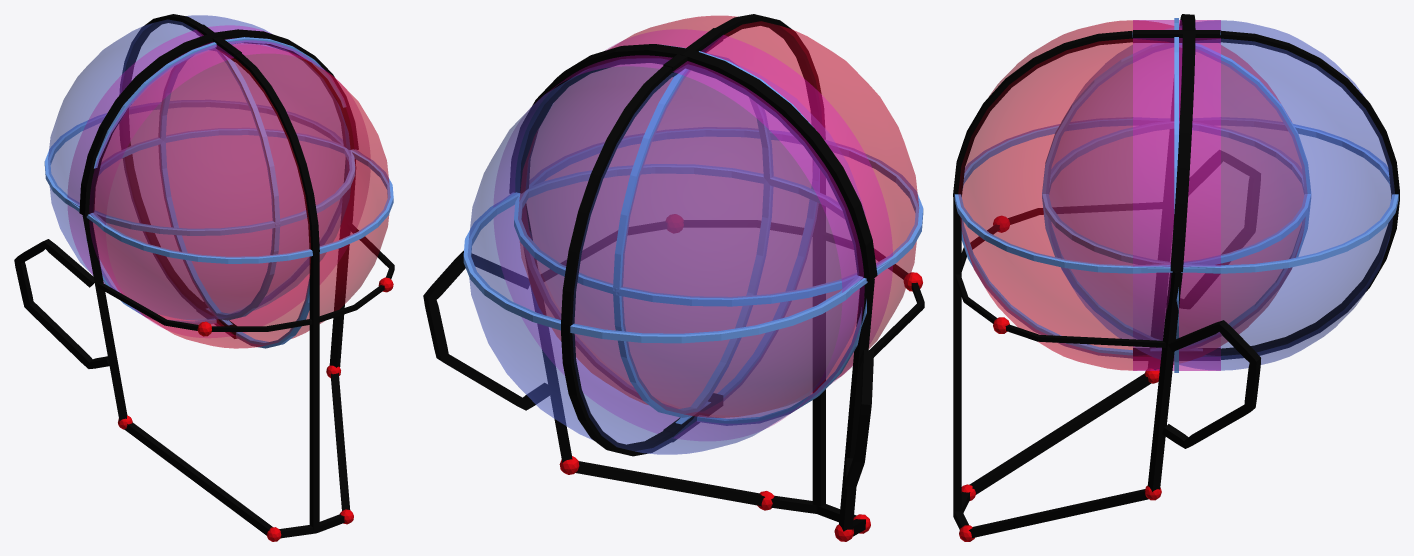
Rendered from 头部-基础头.glb.
The picture shows the model from 3 angles, left to right: view 1: azimuth 30°, elevation 25°; view 2: azimuth 150°, elevation 25°; view 3: azimuth 270°, elevation 25°; orthographic projection. The views are drawn at different scales.
Parts seen in each view (by area): view 1: Sphere, Sphere.001, Sphere.018, Sphere.003, Sphere.013, Sphere.004, Sphere.012, Plane.001, Plane.003, Sphere.011, Sphere.009, Plane (+9 smaller); view 2: Sphere.001, Sphere, Sphere.018, Sphere.013, Sphere.004, Sphere.003, Sphere.012, Sphere.011, Plane.006, Plane.001, Sphere.008, Sphere.009 (+10 smaller); view 3: Sphere, Sphere.001, Sphere.018, Sphere.004, Sphere.003, Sphere.012, Plane, Sphere.011, Sphere.013, Plane.003, Plane.006, Sphere.007 (+9 smaller).
Part boxes in pixels (bbox=[...]): Sphere: bbox=[93, 43, 390, 348]; Sphere.001: bbox=[48, 15, 351, 320]; Sphere.018: bbox=[67, 25, 363, 327]; Sphere.003: bbox=[90, 128, 393, 263]; Sphere.013: bbox=[79, 29, 358, 216]; Sphere.004: bbox=[44, 100, 355, 235]; Sphere.012: bbox=[119, 14, 202, 308]; Plane.001: bbox=[309, 252, 319, 530]; Plane.003: bbox=[124, 374, 350, 535]; Sphere.011: bbox=[158, 48, 309, 348]; Sphere.009: bbox=[86, 37, 346, 324]; Plane: bbox=[82, 159, 355, 421]; Sphere.001: bbox=[468, 59, 865, 454]; Sphere: bbox=[518, 15, 918, 417]; Sphere.018: bbox=[528, 29, 892, 428]; Sphere.013: bbox=[509, 44, 877, 281]; Sphere.004: bbox=[463, 164, 862, 343]; Sphere.003: bbox=[514, 127, 923, 306]; Sphere.012: bbox=[561, 66, 672, 456]; Sphere.011: bbox=[613, 68, 819, 417]; Plane.006: bbox=[423, 250, 873, 489]; Plane.001: bbox=[812, 170, 825, 509]; Sphere.008: bbox=[675, 53, 773, 424]; Sphere.009: bbox=[524, 44, 866, 425]; Sphere: bbox=[958, 20, 1306, 370]; Sphere.001: bbox=[1046, 20, 1394, 370]; Sphere.018: bbox=[1133, 20, 1220, 370]; Sphere.004: bbox=[1042, 117, 1398, 273]; Sphere.003: bbox=[954, 117, 1311, 273]; Sphere.012: bbox=[1220, 30, 1399, 359]; Plane: bbox=[1147, 129, 1182, 491]; Sphere.011: bbox=[961, 32, 1311, 358]; Sphere.013: bbox=[1170, 14, 1195, 271]; Plane.003: bbox=[969, 373, 1151, 538]; Plane.006: bbox=[1162, 150, 1260, 448]; Sphere.007: bbox=[953, 31, 1132, 196].
Size of what is drawn, in the model's own units: 2.57 by 3.09 by 2.55.
